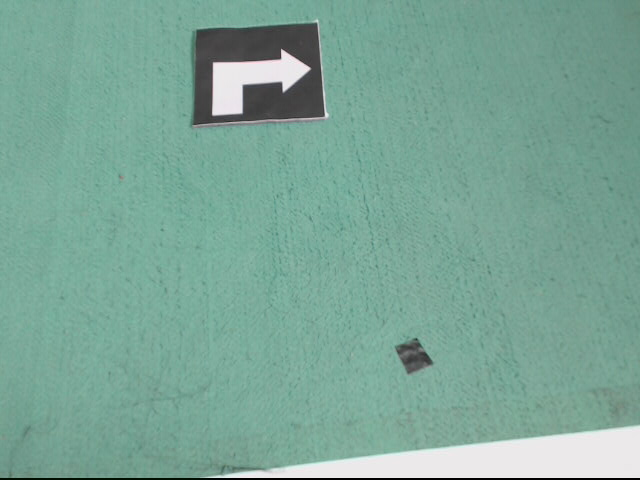right: (191, 21, 328, 125)
